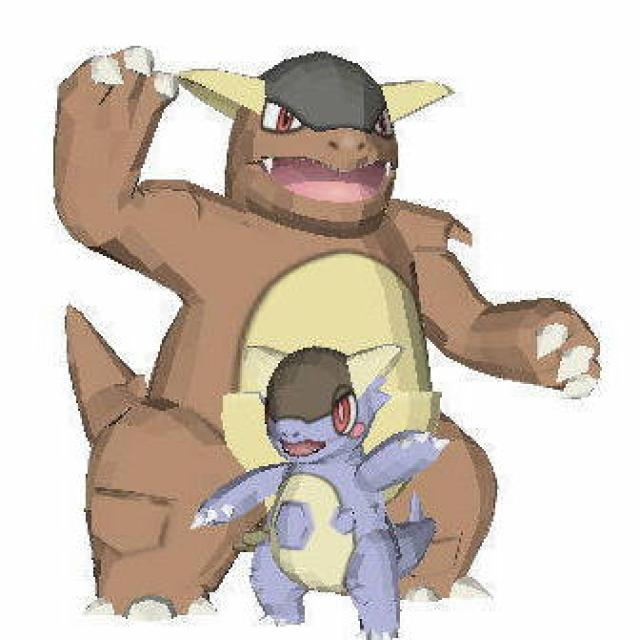Kangaskhan: (34, 45, 593, 632)
